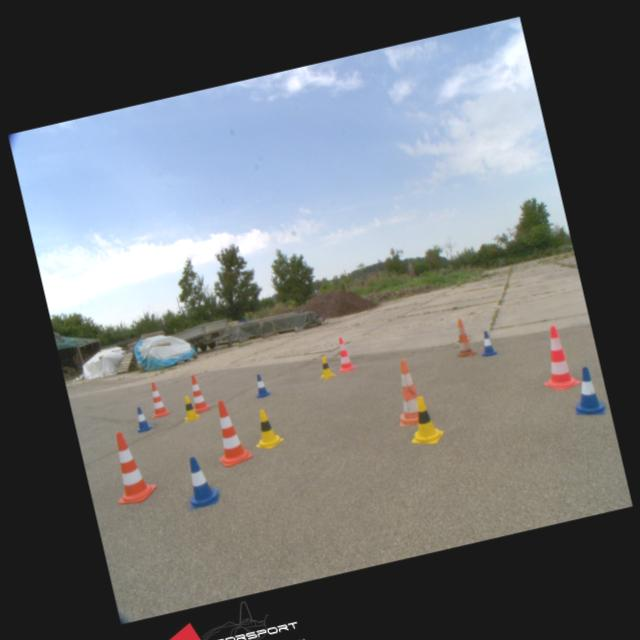blue_cone: (178, 452, 222, 509), (566, 364, 606, 419), (131, 404, 153, 433), (475, 329, 497, 357), (251, 371, 270, 396)
large_orange_cone: (102, 426, 157, 506), (532, 322, 580, 392), (207, 396, 252, 466), (386, 358, 430, 427), (448, 316, 476, 358), (184, 372, 210, 412), (145, 380, 170, 418), (332, 335, 354, 371)
yellow_cone: (401, 392, 444, 447), (248, 406, 284, 449), (179, 394, 199, 421), (316, 354, 334, 378)
